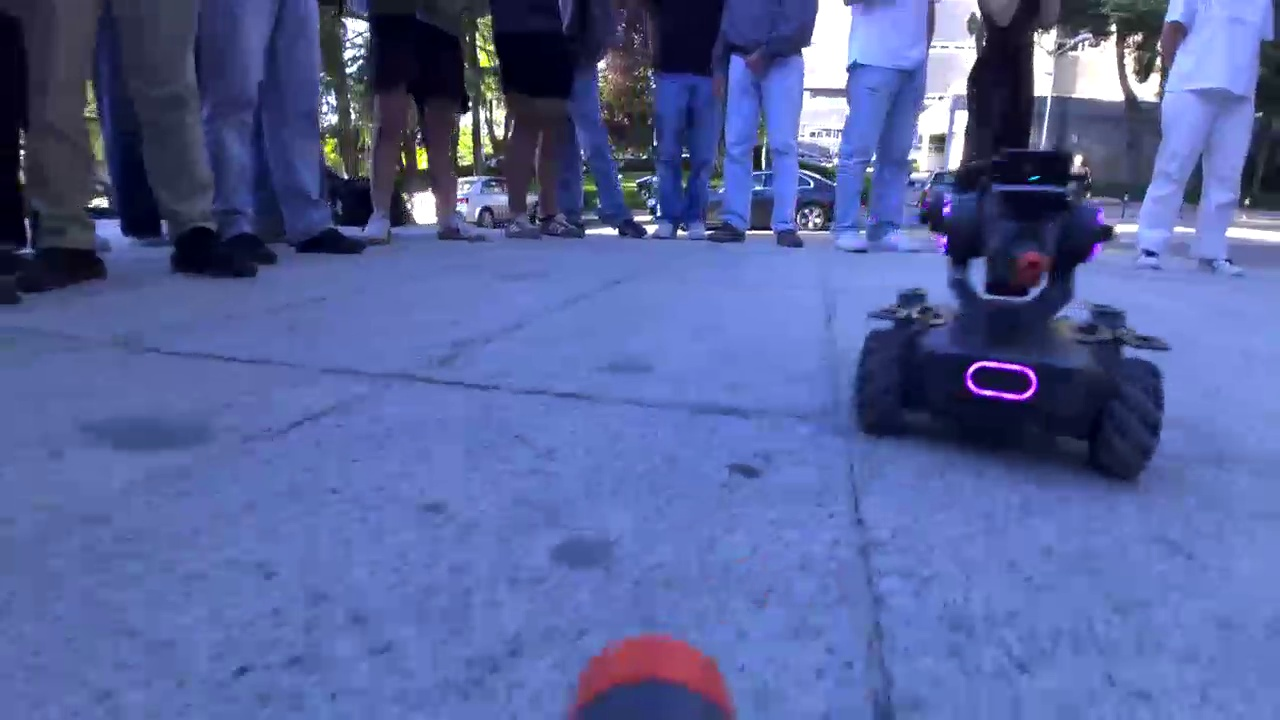robot: (841, 168, 1190, 482)
